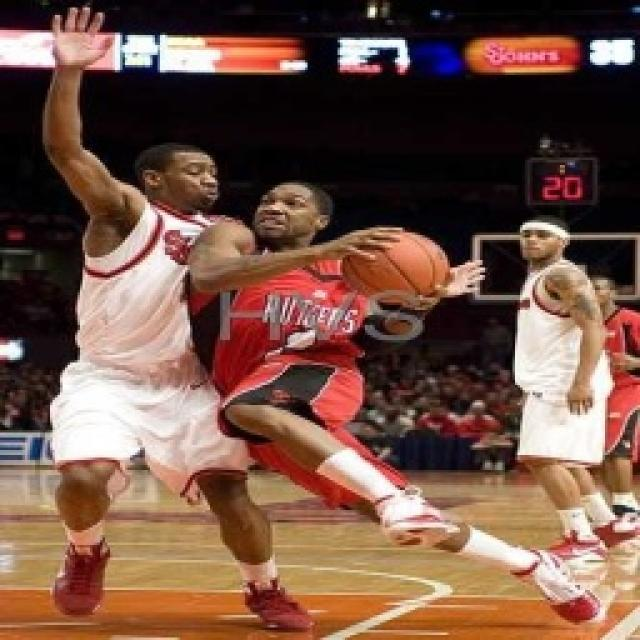rim: (336, 221, 456, 315)
